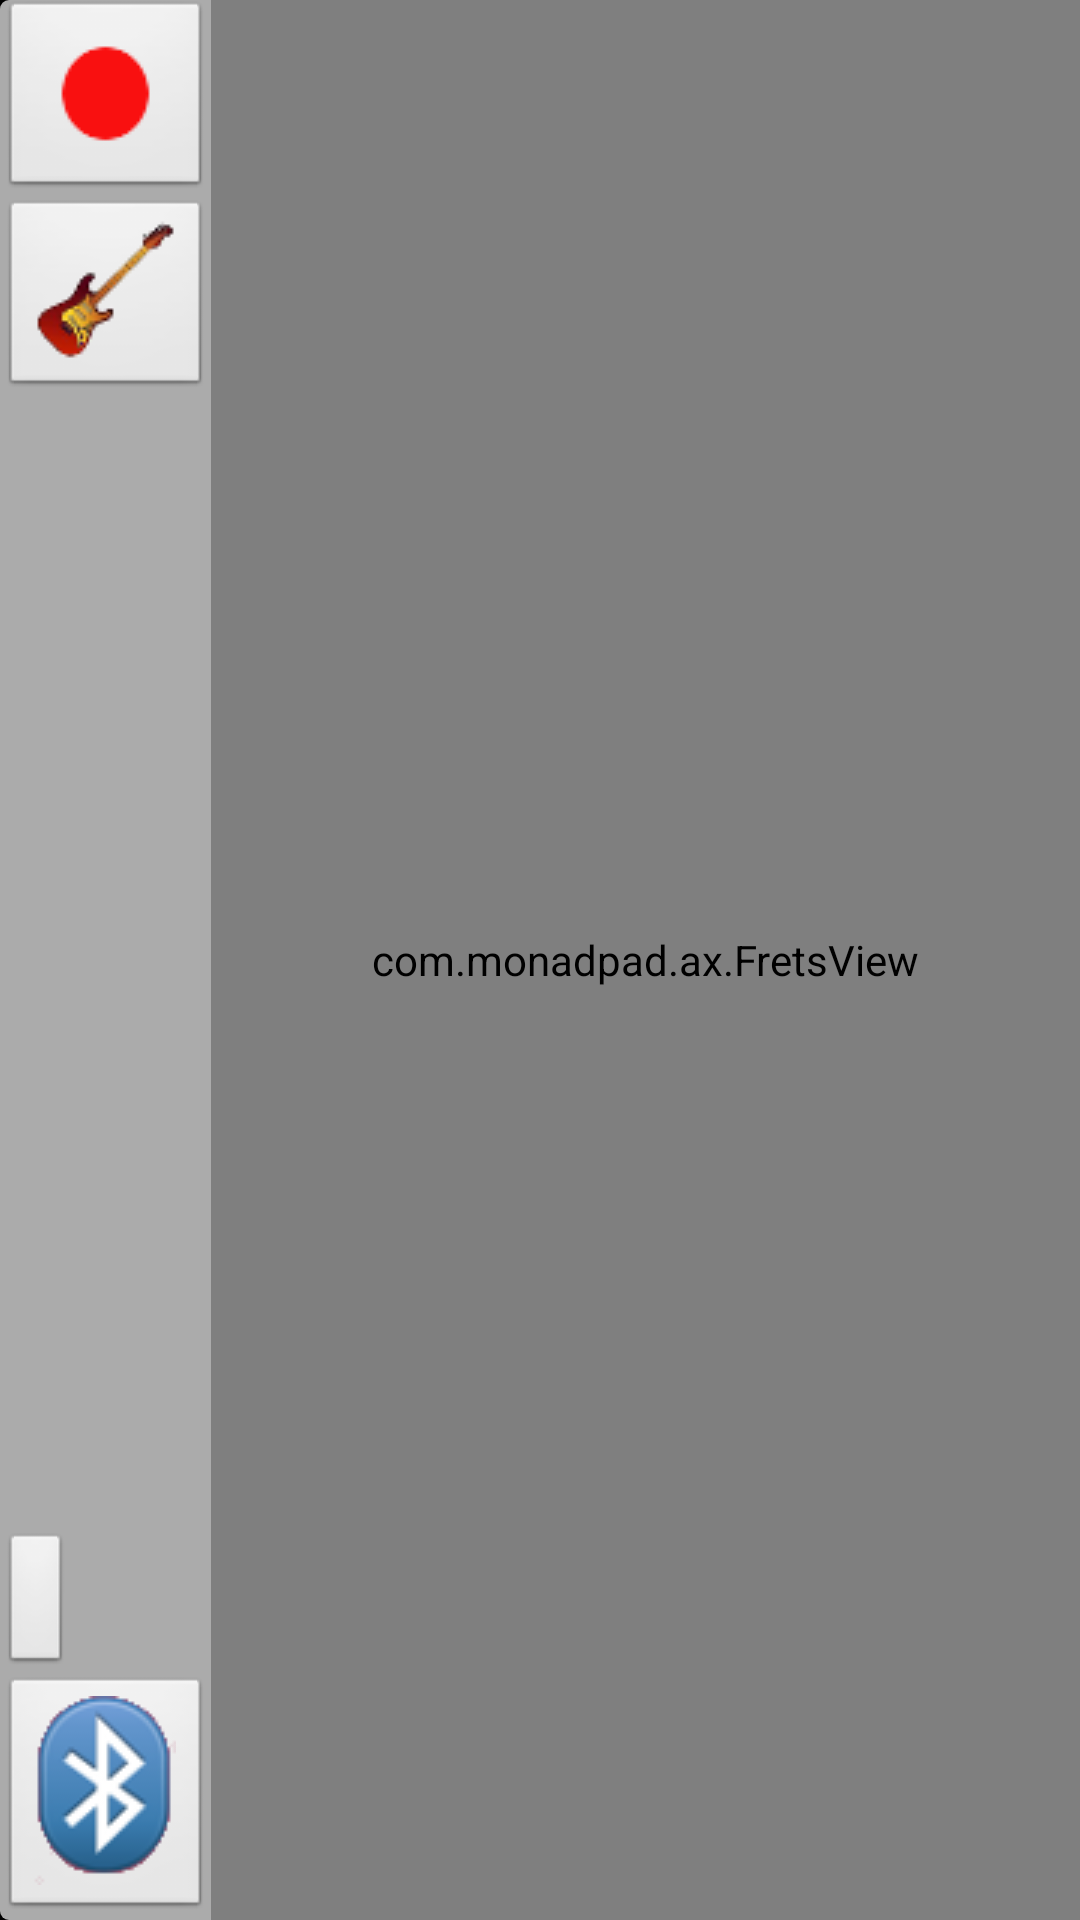

Icons on this 1080x1920 Android screen, each with the point to tap as point (x, y):
eguitar: point (105, 293)
record: point (100, 92)
